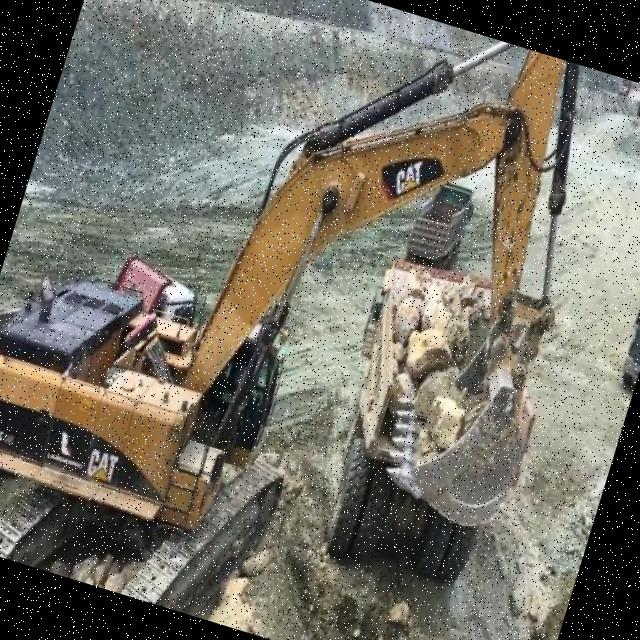Dump Truck: (295, 242, 556, 600), (0, 215, 205, 391), (401, 175, 480, 277), (613, 274, 640, 385)
Excavator: (0, 0, 634, 640)
